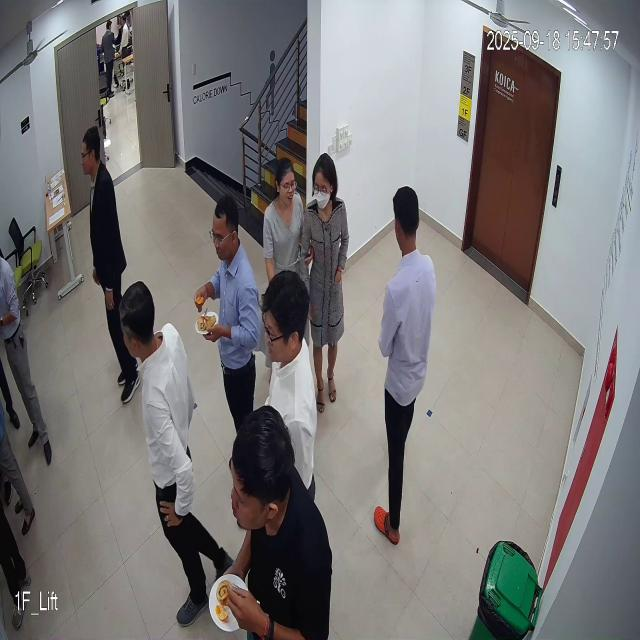face: (262, 270, 308, 368), (206, 191, 243, 265), (276, 157, 300, 212)
